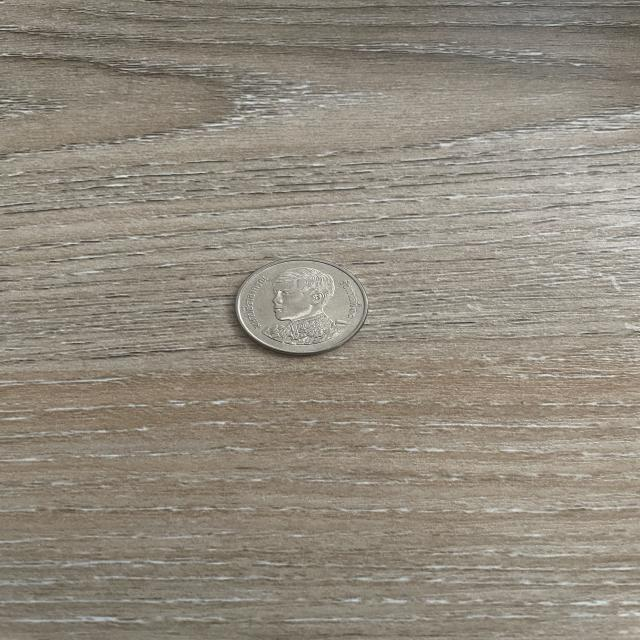1 Bath: (220, 247, 382, 367)
